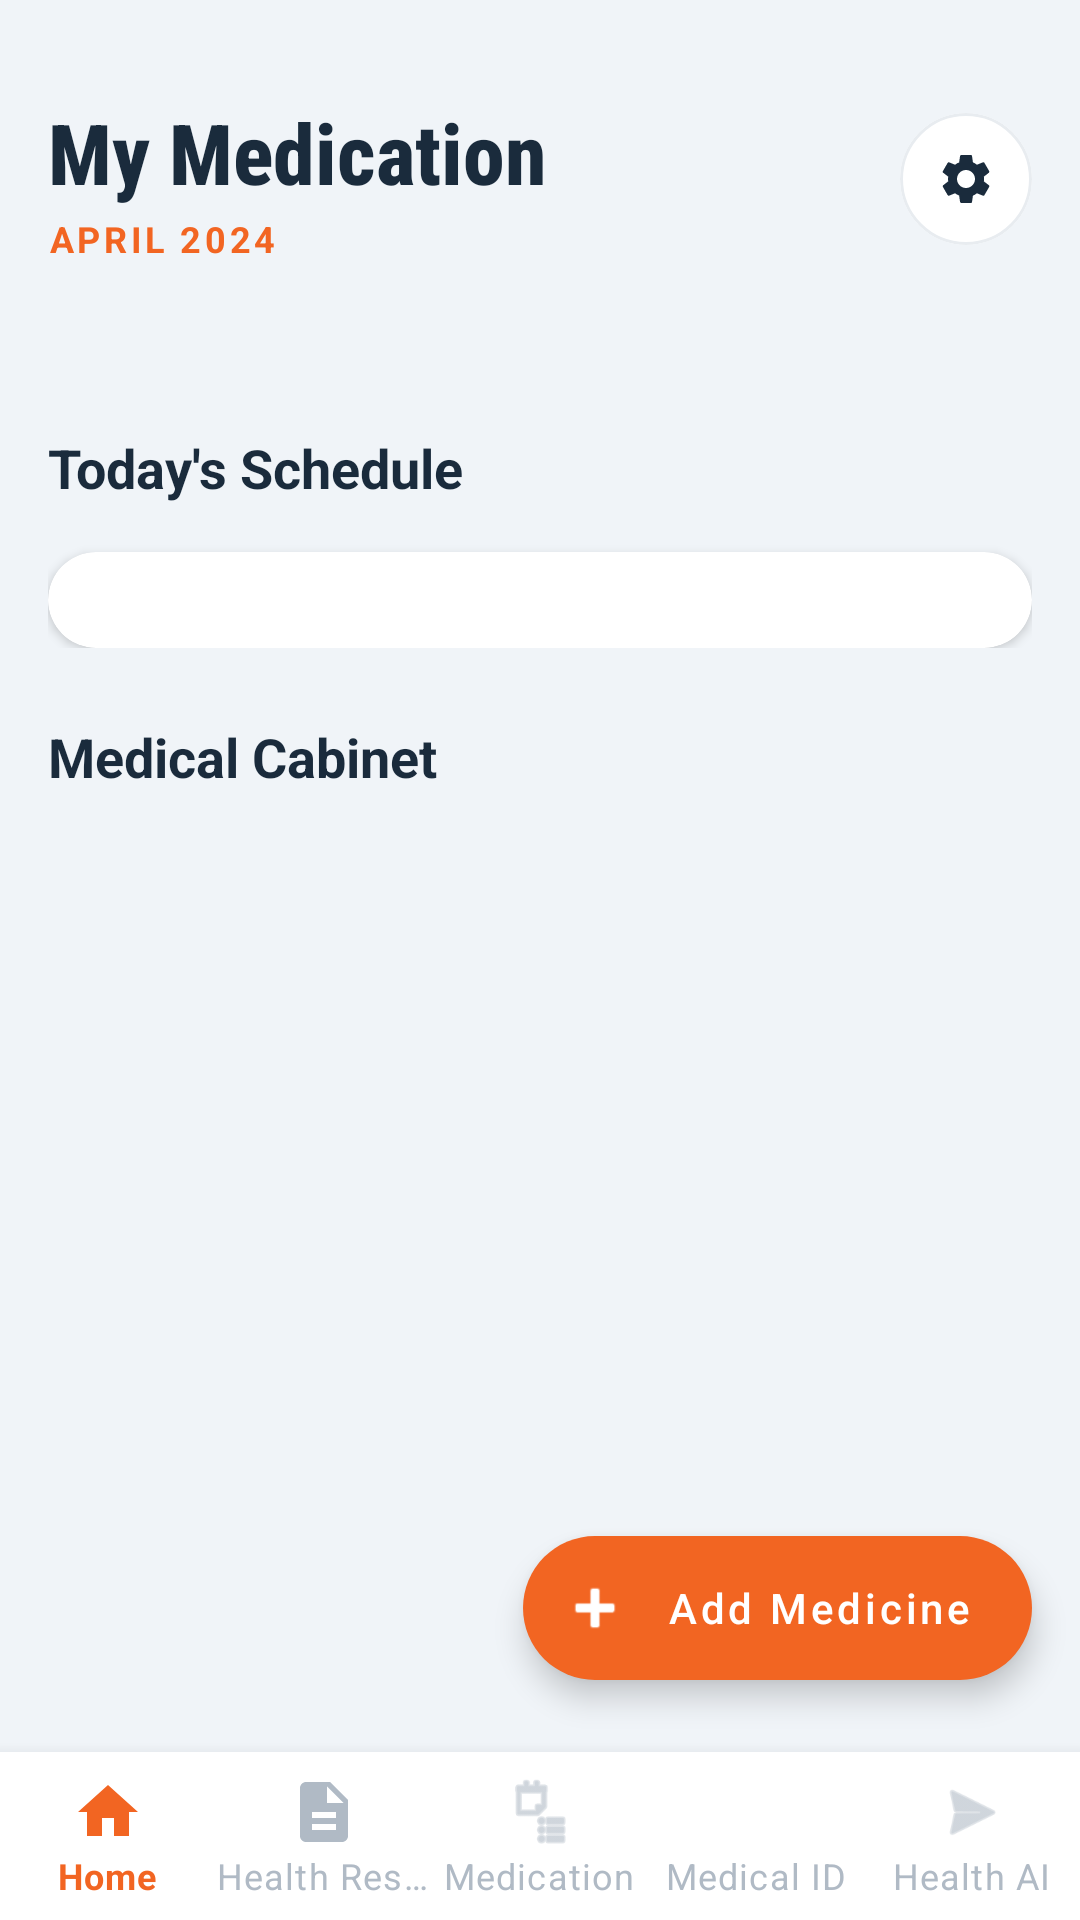

Named icons in this screenshot (1080 × 1920) and their centers, (x,y):
settings: (966,179)
